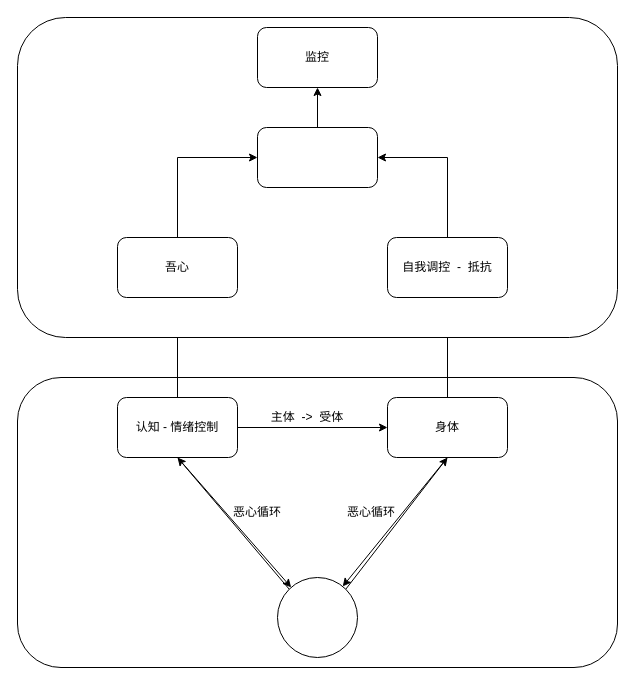
The diagram is 635 pixels wide and 685 high, and some of its shapes have lost their labels. The shapes that lost their labels are listed below. From the top down, each one's centre as x and y in pixels, then its label:
the point at 317,157: 循序减药
the point at 317,617: 血压
